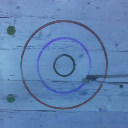Axe Tip: (85, 77, 98, 79)
